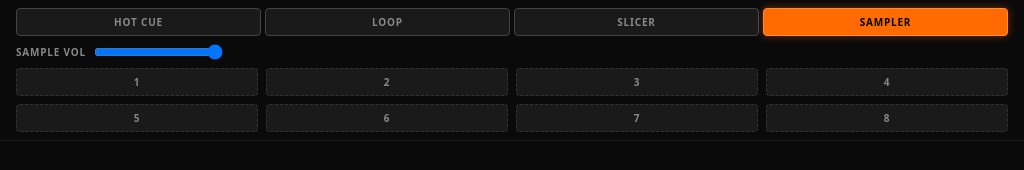
Test: PadGrid mode switching › switching to SLICER mode renders the slice pads
The width and height of the screenshot is (1024, 170).
Click the button with aria-label "slicer pad mode for deck a". click: [636, 22]
box: [514, 8, 759, 36]
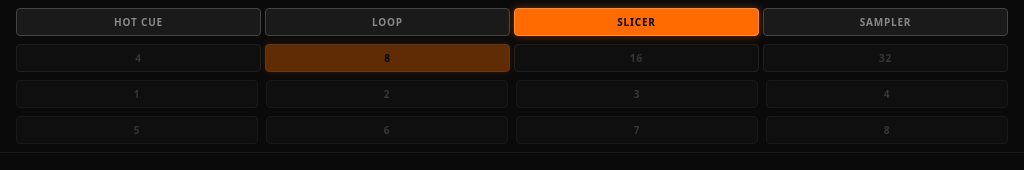
Expected: the button named "slice 1 on deck a" is shown, [16, 80, 258, 108]
